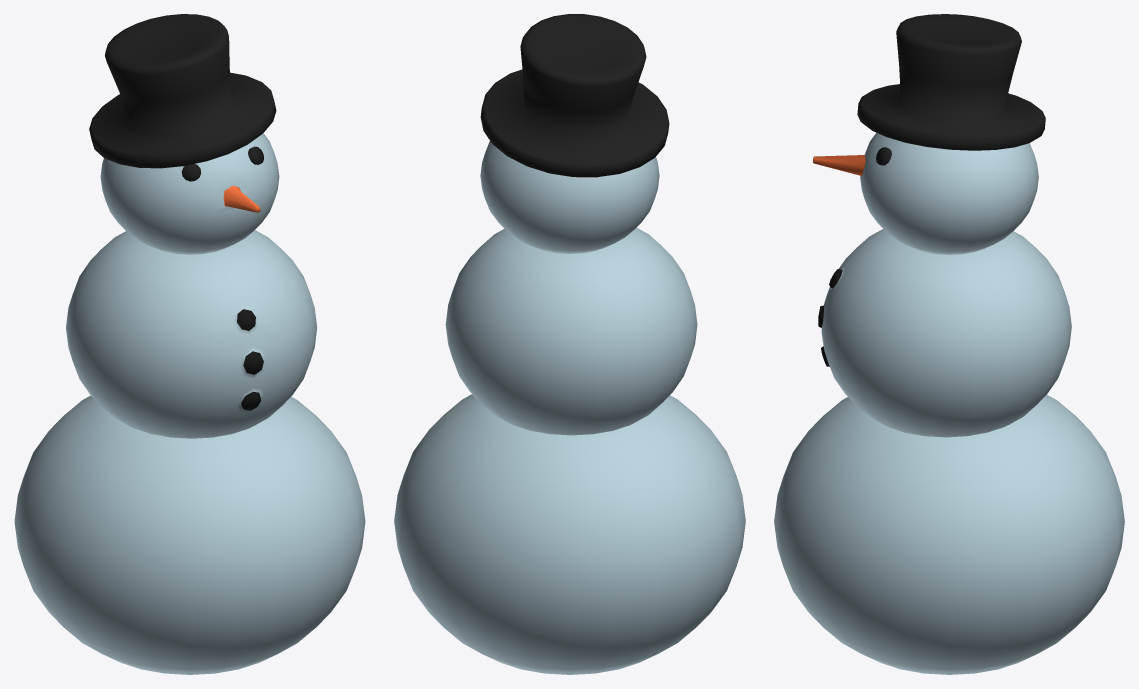
The model's file is Snowman.fbx.
The picture shows the model from 3 angles, left to right: view 1: azimuth 30°, elevation 25°; view 2: azimuth 150°, elevation 25°; view 3: azimuth 270°, elevation 25°; orthographic projection.
Parts seen in each view (by area): view 1: Snowman; view 2: Snowman; view 3: Snowman.
Part boxes in pixels (left/top/right/bottom): Snowman: left=14, top=14, right=365, bottom=674; Snowman: left=394, top=14, right=745, bottom=674; Snowman: left=774, top=14, right=1124, bottom=674.
Size of the model in its own units: 0.5182 by 0.9826 by 0.5182.
